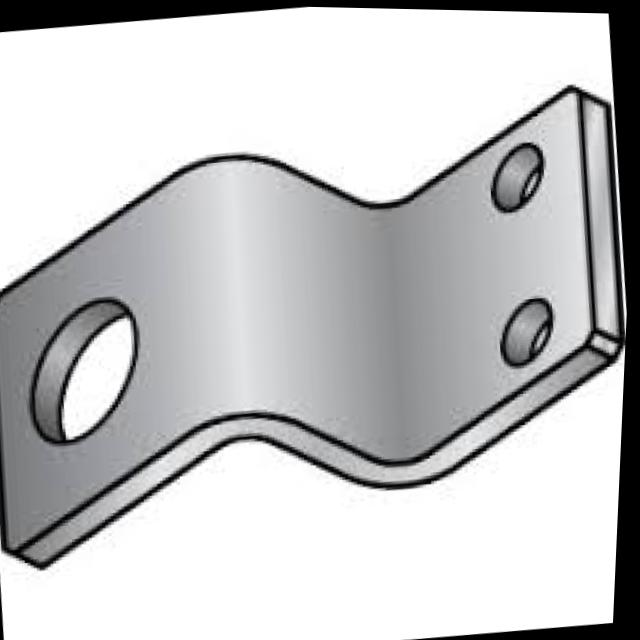holes: (29, 296, 150, 450), (492, 138, 551, 214), (500, 294, 561, 367)
